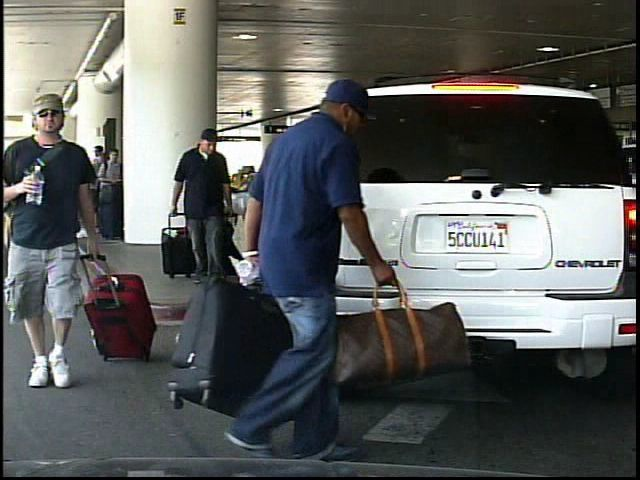person: (233, 76, 393, 468), (11, 98, 110, 398), (168, 129, 240, 283)
